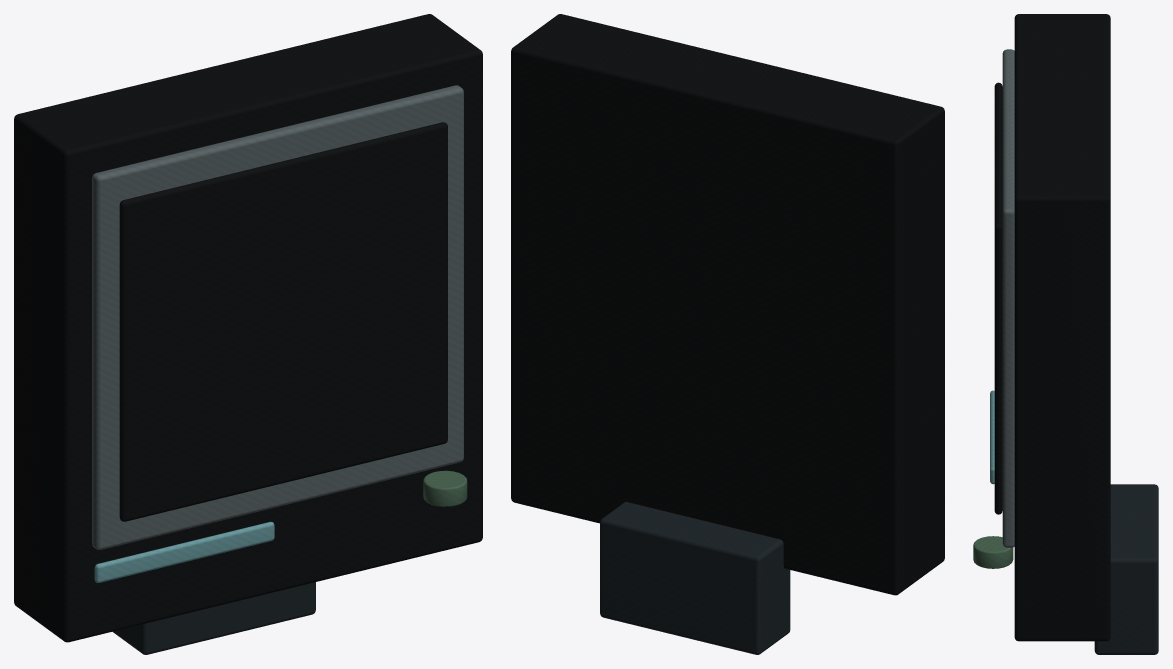
The model's file is WallMonitor.fbx.
3 renders of one model, left to right at view 1: azimuth 30°, elevation 25°; view 2: azimuth 150°, elevation 25°; view 3: azimuth 270°, elevation 25°, orthographic. The views are drawn at different scales.
Parts seen in each view (by area): view 1: WallMonitor_Mesh; view 2: WallMonitor_Mesh; view 3: WallMonitor_Mesh.
Part boxes in pixels (x1,y1,x2,y2): WallMonitor_Mesh: [14, 14, 482, 654]; WallMonitor_Mesh: [511, 14, 944, 654]; WallMonitor_Mesh: [973, 14, 1158, 654].
Size of the model in its own units: 82 by 106 by 34.75.
Materials: 5 (5 with a texture image).
